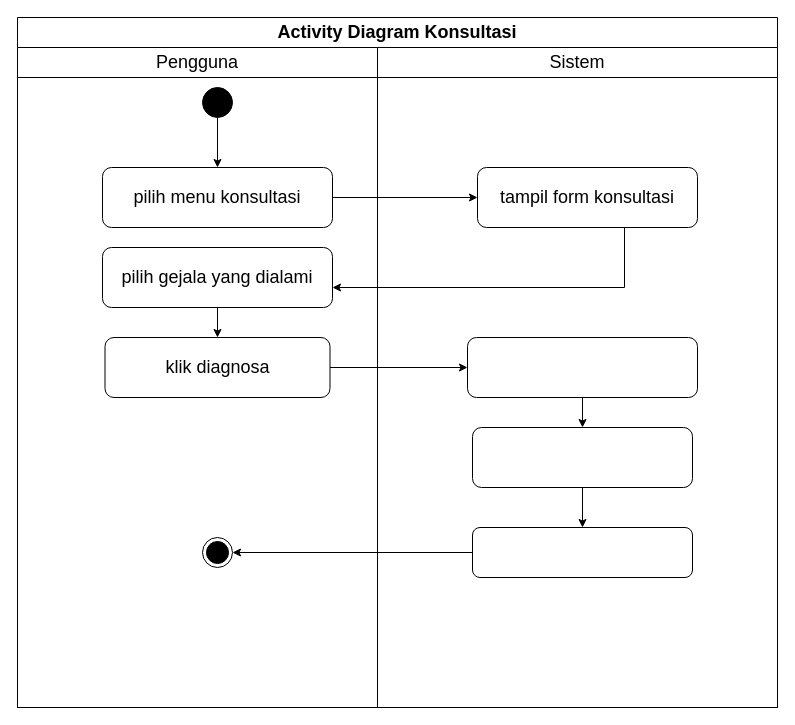
This 795x725 diagram has some shape labels left out. Each missing label, with the centre of its shape:
"proses forward chaining" belongs at [582,367].
"simpan hasil diagnosa" belongs at [582,457].
"tampil hasil diagnosa" belongs at [582,552].
